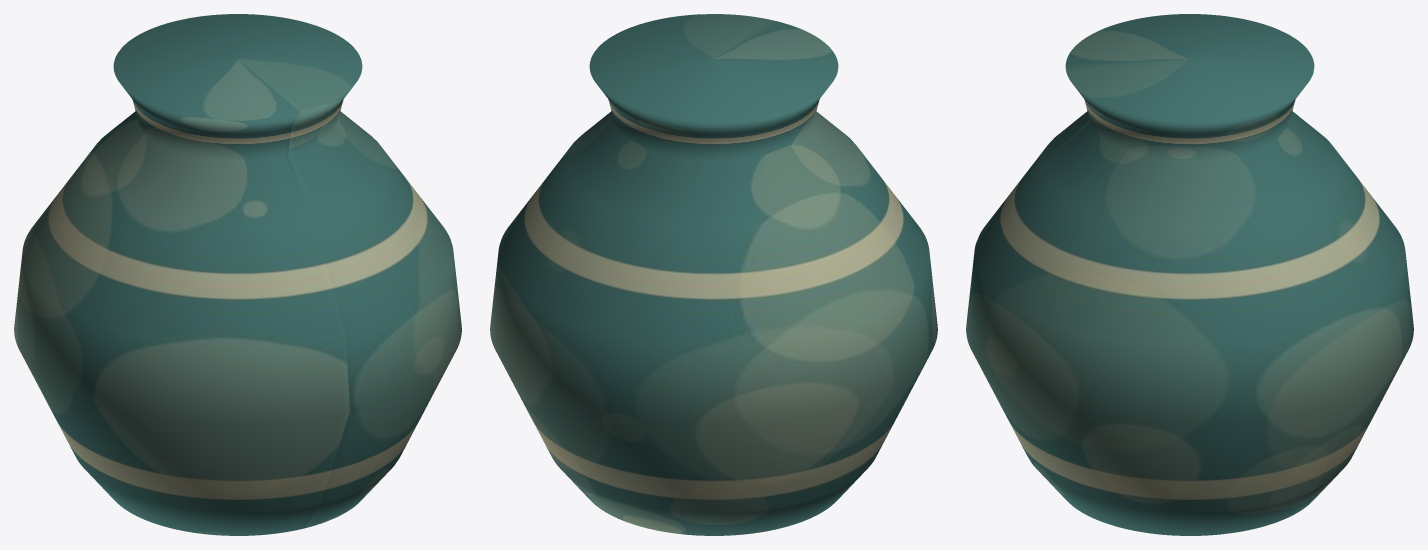
File: urn.glb
The picture shows the model from 3 angles, left to right: view 1: azimuth 30°, elevation 25°; view 2: azimuth 150°, elevation 25°; view 3: azimuth 270°, elevation 25°; orthographic projection.
Parts seen in each view (by area): view 1: standin; view 2: standin; view 3: standin.
Boxes of the visible parts, left/top/right/bottom form: standin: left=14, top=14, right=461, bottom=535; standin: left=490, top=14, right=937, bottom=535; standin: left=966, top=14, right=1413, bottom=535.
Bounding box in the file's own units: 0.54 × 0.56 × 0.54.
1 material, 1 textured.
